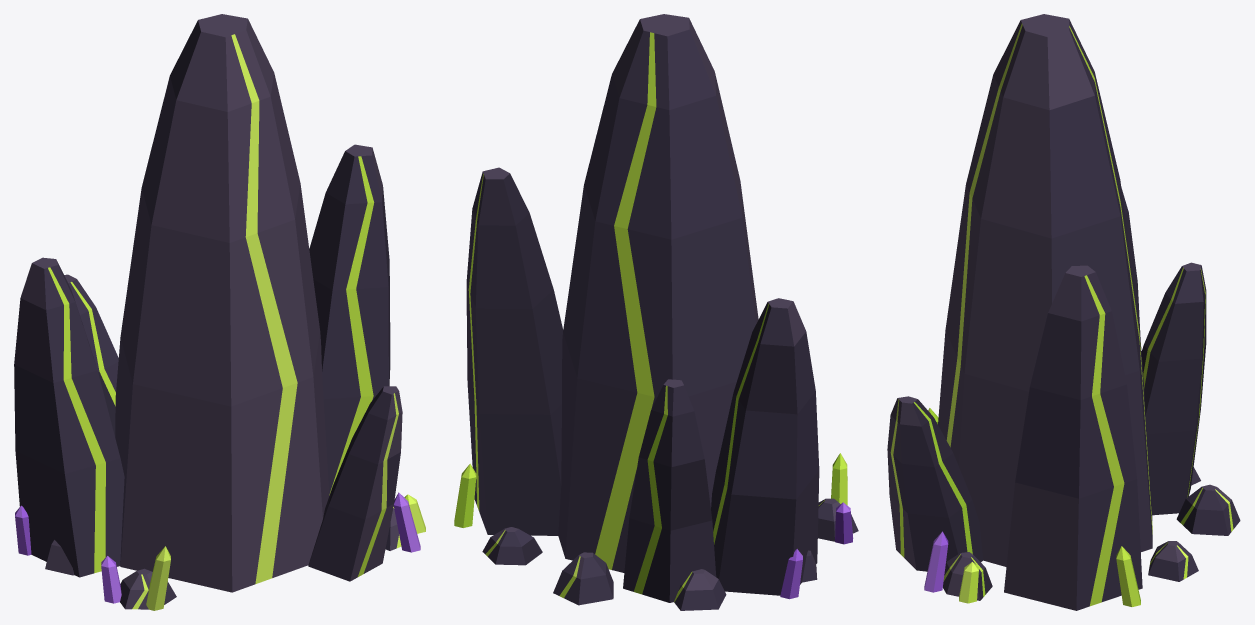
The model's file is landmark.glb.
3 renders of one model, left to right at view 1: azimuth 30°, elevation 25°; view 2: azimuth 150°, elevation 25°; view 3: azimuth 270°, elevation 25°, orthographic. The views are drawn at different scales.
Visible parts, largest first — view 1: monolith; view 2: monolith; view 3: monolith.
Boxes of the visible parts, x1,y1,x2,y2 form: monolith: [14, 14, 425, 610]; monolith: [454, 14, 858, 610]; monolith: [887, 14, 1240, 610].
Bounding box in the file's own units: 23.38 × 32 × 20.44.
Materials: 1 (1 with a texture image).
